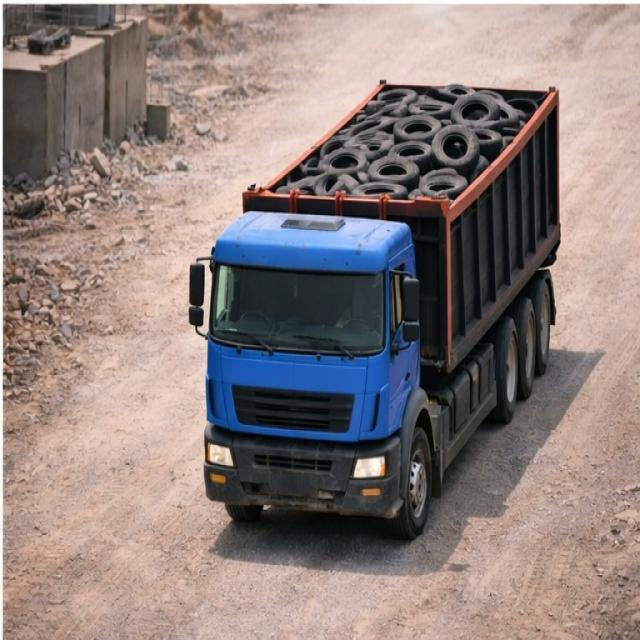Box: (248, 79, 558, 208)
Truck: (184, 65, 566, 528)
